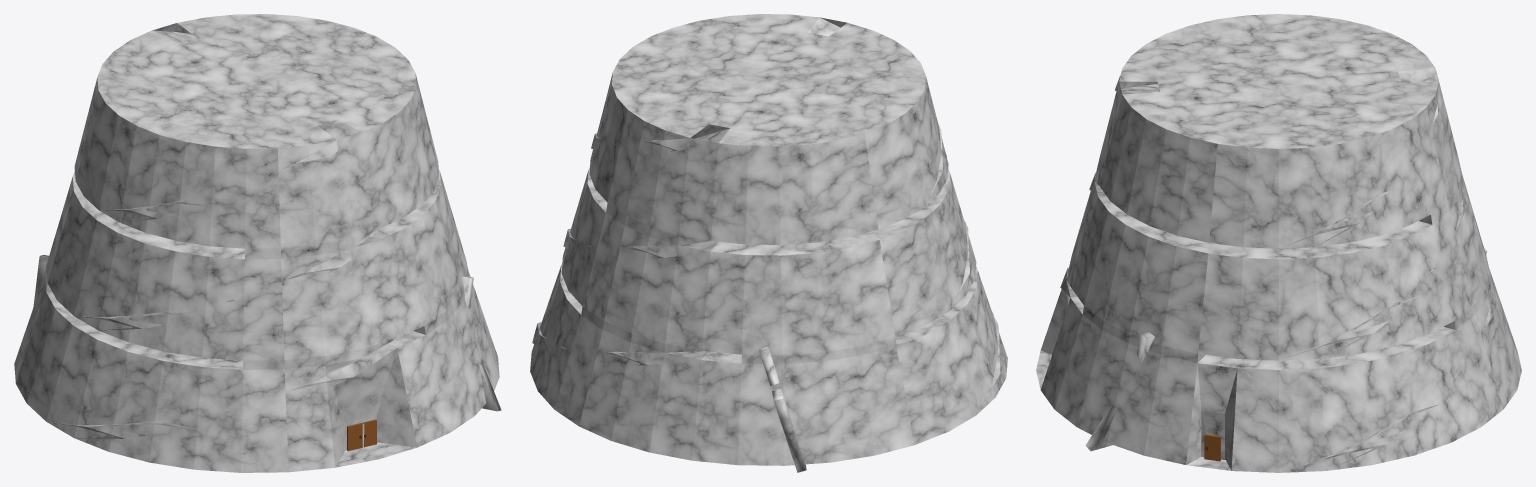
File: CitadelInner01.dae
3 views of the same model, side by side, from view 1: azimuth 30°, elevation 25°; view 2: azimuth 150°, elevation 25°; view 3: azimuth 270°, elevation 25° (orthographic).
Visible parts, largest first — view 1: CitadelInner, CitadelInnerDebris; view 2: CitadelInner, CitadelInnerDebris; view 3: CitadelInner, CitadelInnerDebris.
Part boxes in pixels (x1,y1,x2,y2): CitadelInner: (14, 14, 499, 472); CitadelInnerDebris: (33, 255, 501, 411); CitadelInner: (530, 14, 1007, 465); CitadelInnerDebris: (759, 347, 806, 472); CitadelInner: (1036, 14, 1521, 472); CitadelInnerDebris: (1085, 248, 1487, 451).
Bounding box in the file's own units: 46.18 × 46.18 × 35.44.
Materials: 3 (2 with a texture image).
